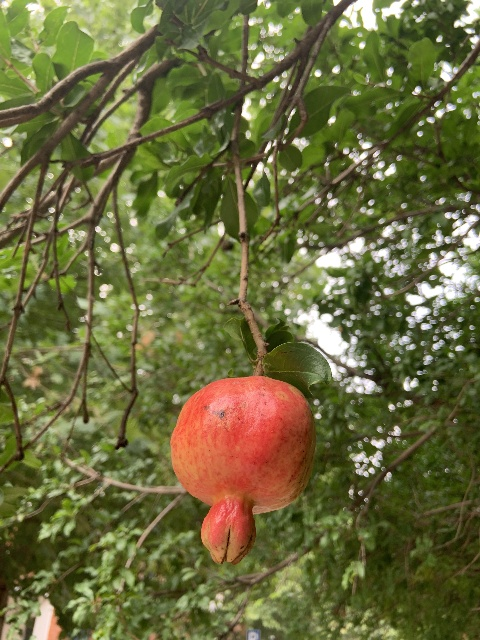ripe: (169, 375, 316, 566)
